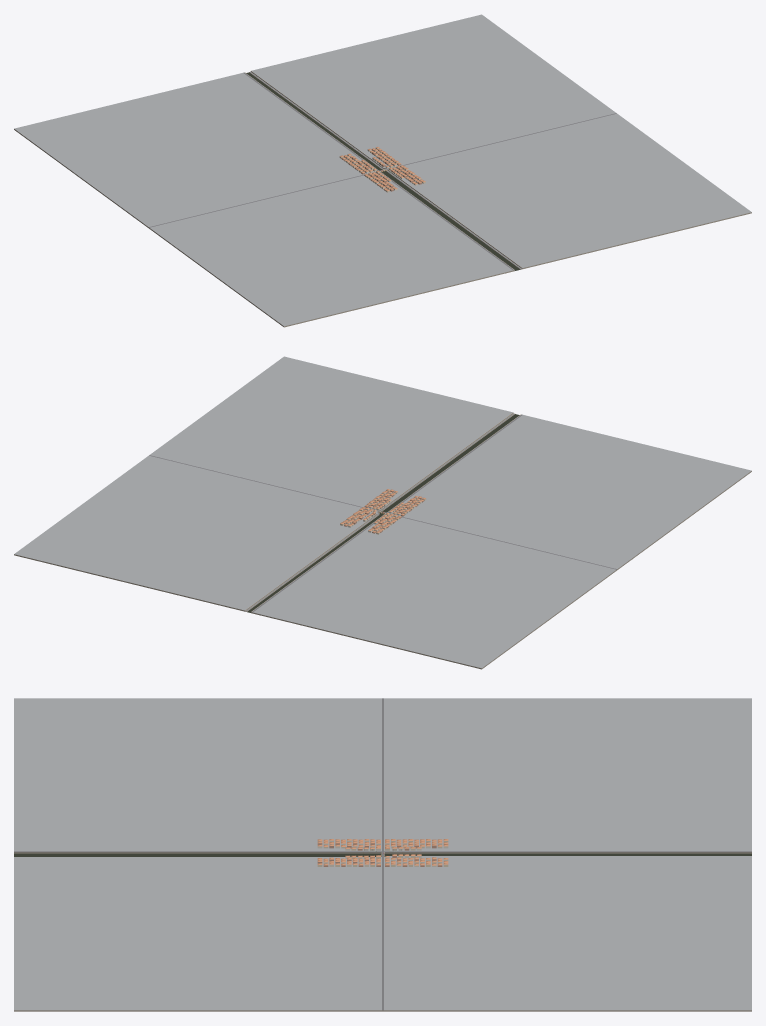
Rendered from clay-stone-arch-road-bridge-clay-v002.glb.
The picture shows the model from 3 angles, top to bottom: view 1: azimuth 30°, elevation 25°; view 2: azimuth 150°, elevation 25°; view 3: azimuth 270°, elevation 25°; orthographic projection. The views are drawn at different scales.
Visible parts, largest first — view 1: CLAY_PAVING, CLAY_QUAY, CLAY_ASPHALT, CLAY_WATER, CLAY_ROOF; view 2: CLAY_PAVING, CLAY_QUAY, CLAY_ASPHALT, CLAY_WATER, CLAY_ROOF; view 3: CLAY_PAVING, CLAY_QUAY, CLAY_WATER, CLAY_ASPHALT, CLAY_ROOF, CLAY_FACADE2.
Boxes of the visible parts, x1,y1,x2,y2 form: CLAY_PAVING: (14, 14, 751, 326); CLAY_QUAY: (14, 71, 751, 327); CLAY_ASPHALT: (149, 72, 616, 270); CLAY_WATER: (246, 72, 520, 270); CLAY_ROOF: (340, 147, 425, 190); CLAY_PAVING: (14, 356, 751, 668); CLAY_QUAY: (14, 413, 751, 669); CLAY_ASPHALT: (149, 413, 616, 612); CLAY_WATER: (247, 414, 519, 612); CLAY_ROOF: (340, 489, 425, 532); CLAY_PAVING: (14, 698, 751, 1010); CLAY_QUAY: (14, 852, 751, 1011); CLAY_WATER: (14, 853, 751, 856); CLAY_ASPHALT: (14, 698, 751, 1010); CLAY_ROOF: (317, 839, 448, 865); CLAY_FACADE2: (317, 840, 448, 866).
Bounding box in the file's own units: 4800 × 33.15 × 4800.
